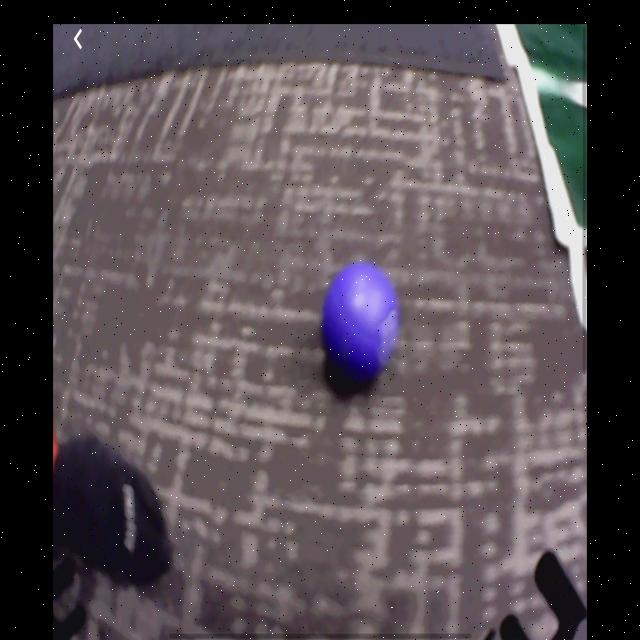ball: (323, 261, 395, 377)
